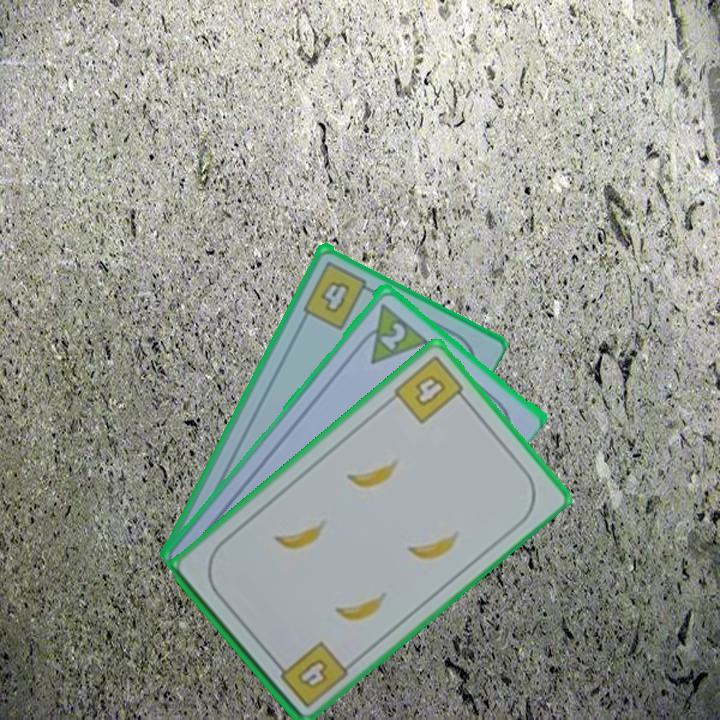2p: (351, 298, 430, 367)
4b: (390, 351, 472, 427), (299, 256, 378, 332), (270, 637, 351, 711)
